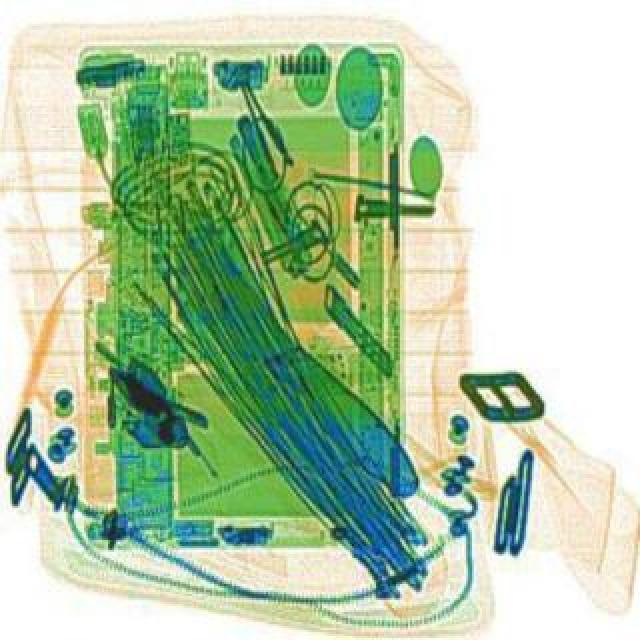knife: (140, 204, 432, 504)
